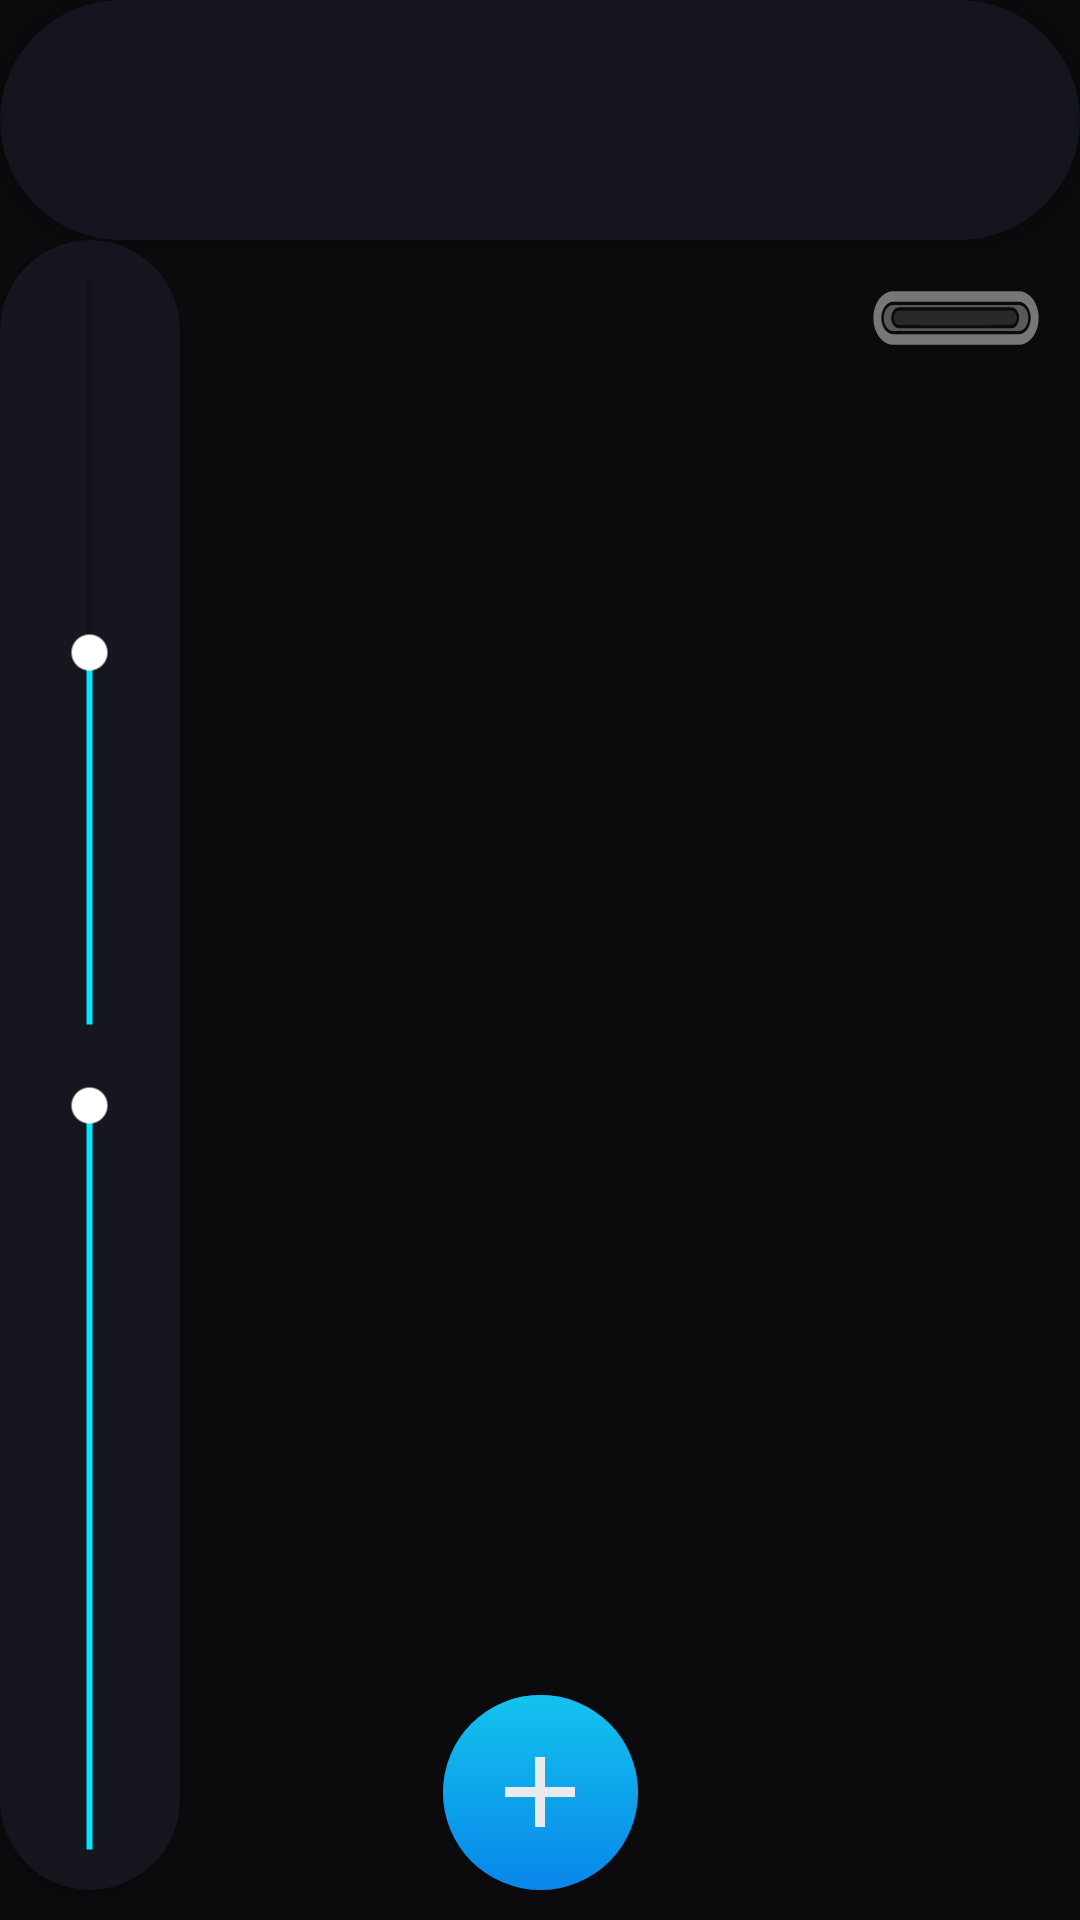

Icons on this 1080×1920 Android screen, each with its box as (x1, y1, x2, y2):
newcanvasbutton: (443, 1695, 638, 1890)
